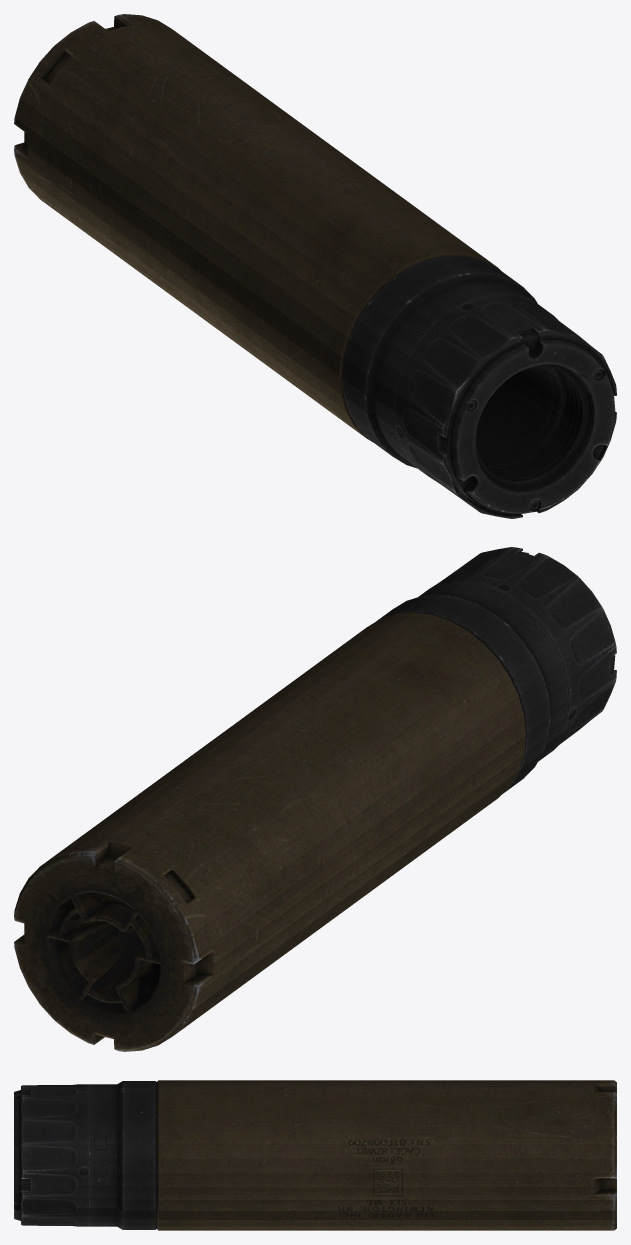
3 renders of one model, top to bottom at view 1: azimuth 30°, elevation 25°; view 2: azimuth 150°, elevation 25°; view 3: azimuth 270°, elevation 25°, orthographic. The views are drawn at different scales.
Parts seen in each view (by area): view 1: TW_652911e650dc782999054b9d_PZ_Import; view 2: TW_652911e650dc782999054b9d_PZ_Import; view 3: TW_652911e650dc782999054b9d_PZ_Import.
Part boxes in pixels (left/top/right/bottom): TW_652911e650dc782999054b9d_PZ_Import: left=14, top=14, right=616, bottom=518; TW_652911e650dc782999054b9d_PZ_Import: left=14, top=547, right=616, bottom=1051; TW_652911e650dc782999054b9d_PZ_Import: left=14, top=1080, right=616, bottom=1230.
Size of the model in its own units: 0.0254 by 0.1018 by 0.0254.
Materials: 1 (1 with a texture image).
